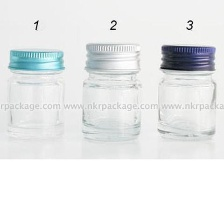bottle: (75, 37, 146, 144), (151, 37, 220, 144), (2, 45, 68, 145)
